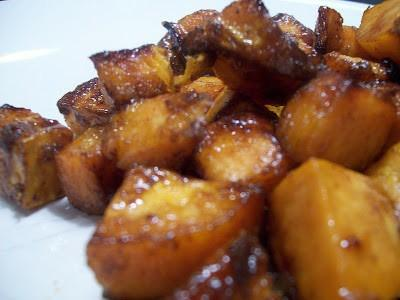AlooMasala: (2, 1, 400, 300)
